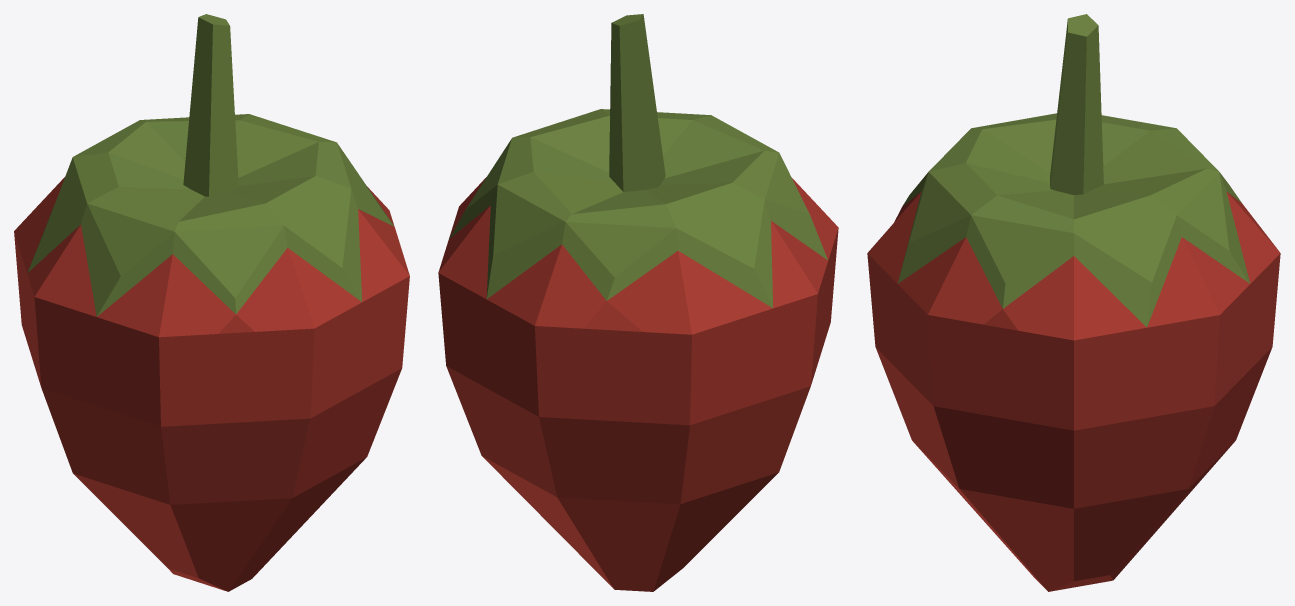
The model's file is SM_Envr_Nature_Farm_Fruit_Strawberry.fbx.
3 renders of one model, left to right at view 1: azimuth 30°, elevation 25°; view 2: azimuth 150°, elevation 25°; view 3: azimuth 270°, elevation 25°, orthographic.
Parts seen in each view (by area): view 1: SM_Envr_Nature_Farm_Fruit_Strawberry; view 2: SM_Envr_Nature_Farm_Fruit_Strawberry; view 3: SM_Envr_Nature_Farm_Fruit_Strawberry.
Boxes of the visible parts, x1,y1,x2,y2 form: SM_Envr_Nature_Farm_Fruit_Strawberry: [14, 14, 409, 591]; SM_Envr_Nature_Farm_Fruit_Strawberry: [438, 14, 838, 591]; SM_Envr_Nature_Farm_Fruit_Strawberry: [867, 14, 1280, 591].
Size of the model in its own units: 4 by 5.99 by 4.
